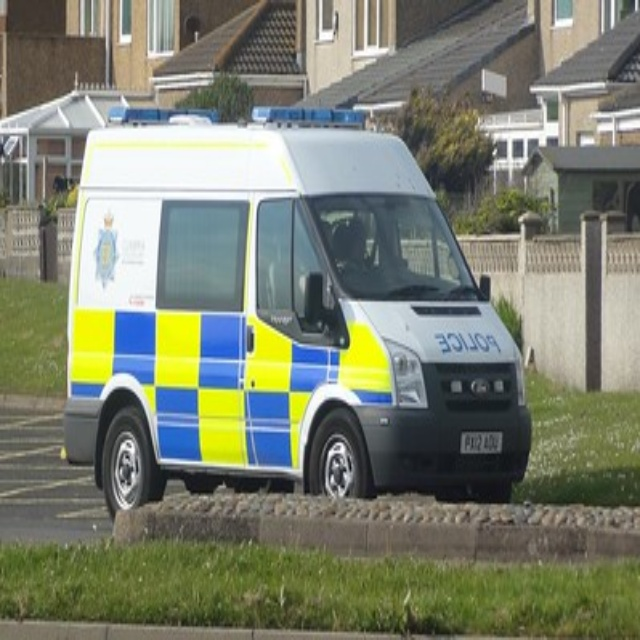Van: (63, 117, 534, 531)
